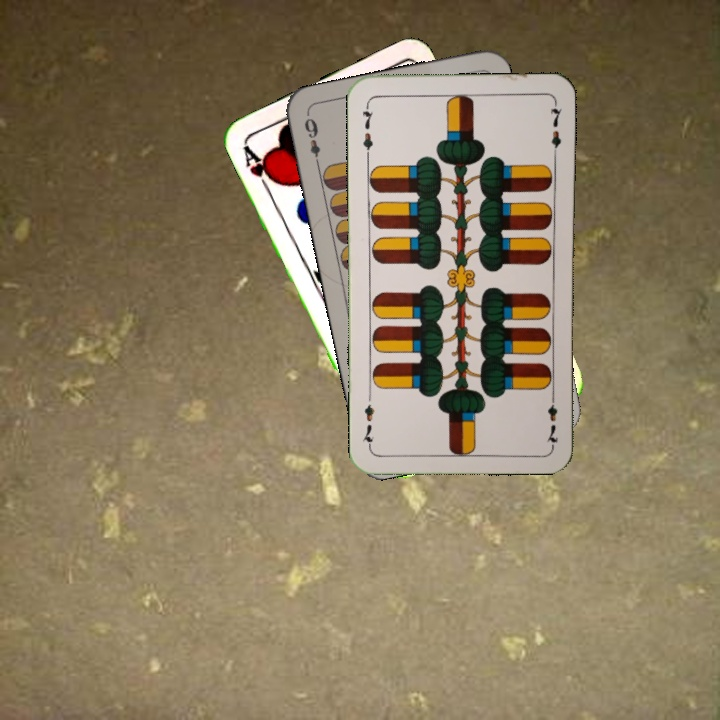E7: (358, 99, 376, 158), (543, 388, 561, 447)
E9: (300, 114, 323, 170)
HA: (238, 140, 279, 195)
